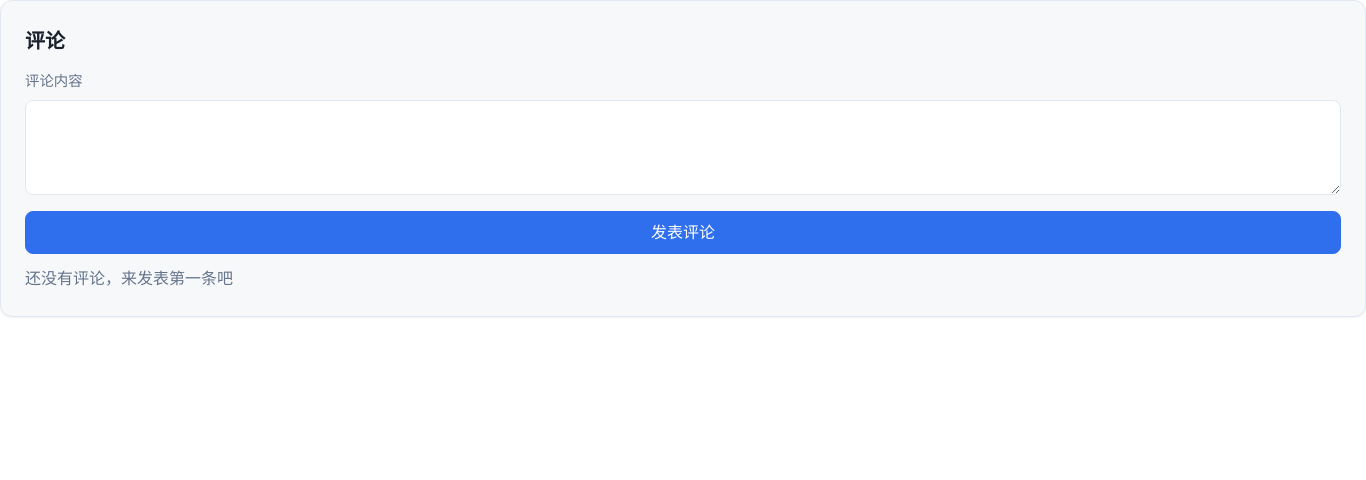
Test: ProductComments › submits a comment and shows 审核中 for the pending result
Type "我的新评论" into the text box labelled "评论内容".
click(683, 147); type("我的新评论")  # box top-left (25, 100), bottom-right (1341, 195)
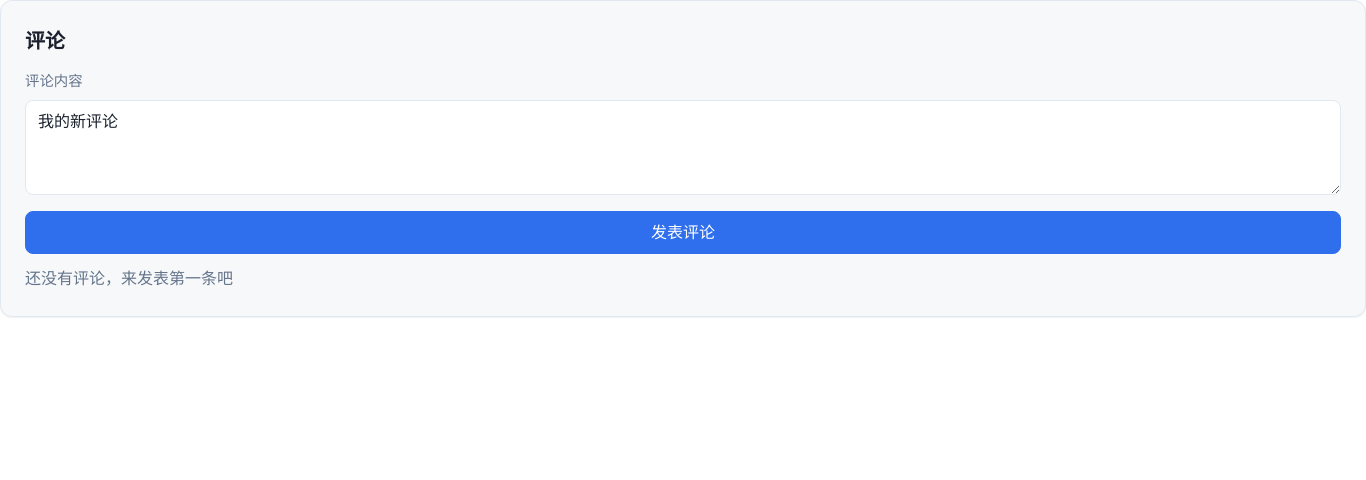
Click the button "发表评论".
click(683, 233)  # box top-left (25, 211), bottom-right (1341, 254)
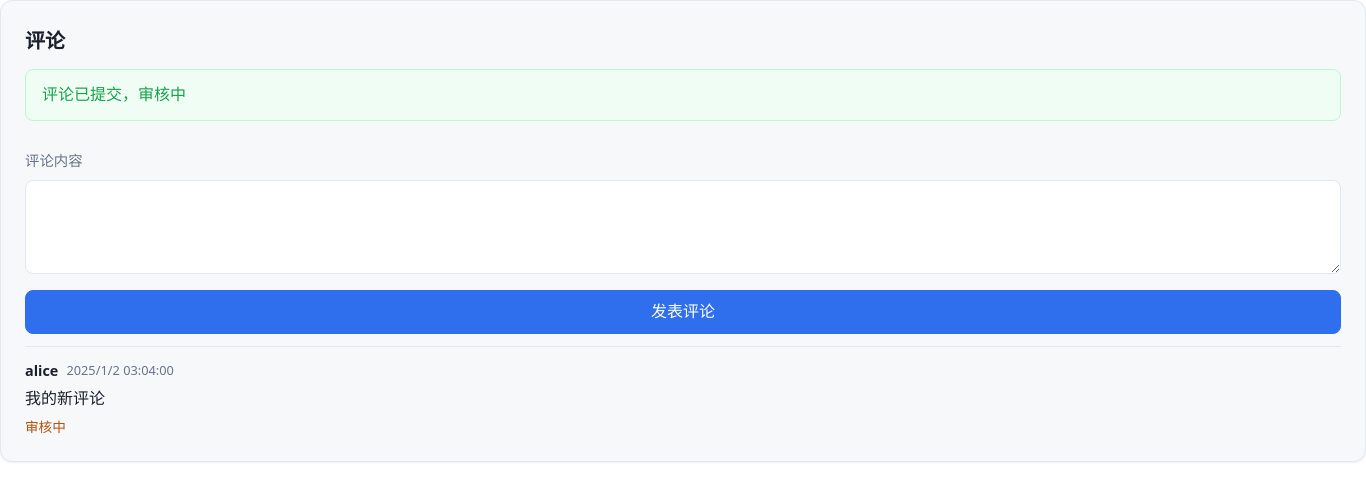
expect the text "审核中" is shown: met, box top-left (25, 417), bottom-right (66, 436)
